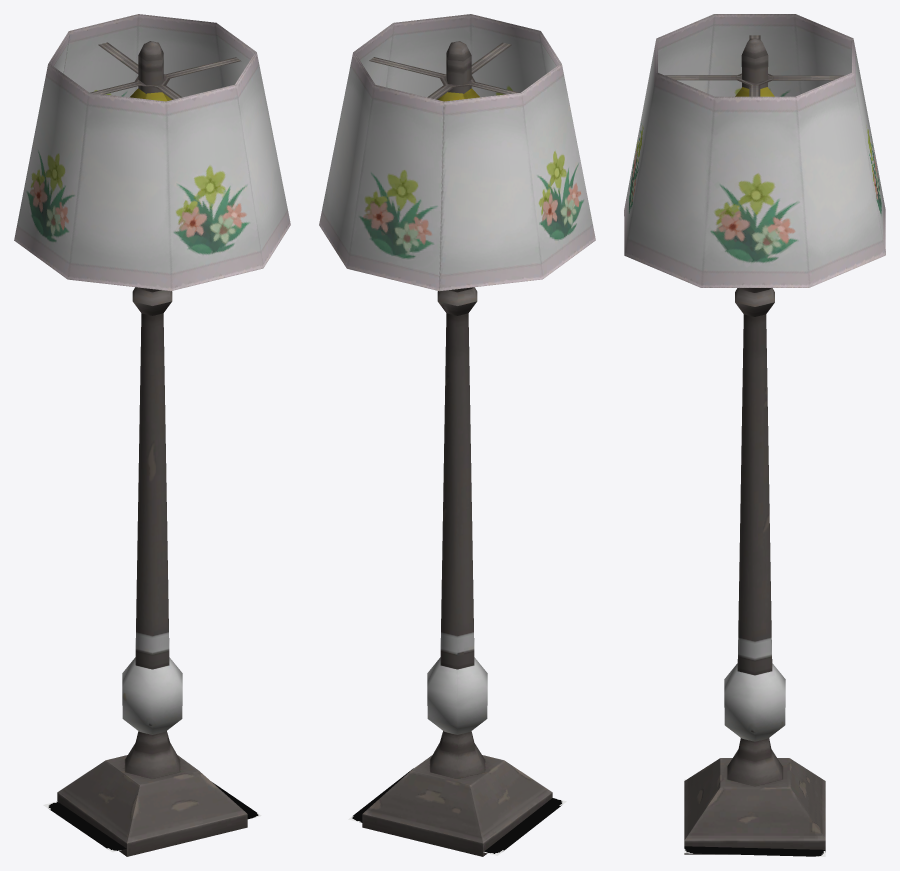
Rendered from jj_ty_luodideng03.FBX.
3 views of the same model, side by side, from view 1: azimuth 30°, elevation 25°; view 2: azimuth 150°, elevation 25°; view 3: azimuth 270°, elevation 25° (orthographic).
Visible parts, largest first — view 1: jj_ty_luodideng03, shadow; view 2: jj_ty_luodideng03, shadow; view 3: jj_ty_luodideng03, shadow.
Boxes of the visible parts, box(x1,y1,x2,y2) form: jj_ty_luodideng03: box(14, 14, 290, 856); shadow: box(43, 782, 261, 852); jj_ty_luodideng03: box(319, 14, 595, 856); shadow: box(348, 765, 566, 855); jj_ty_luodideng03: box(624, 14, 885, 854); shadow: box(684, 779, 825, 856).
Size of the model in its own units: 40.55 by 134 by 40.55.
